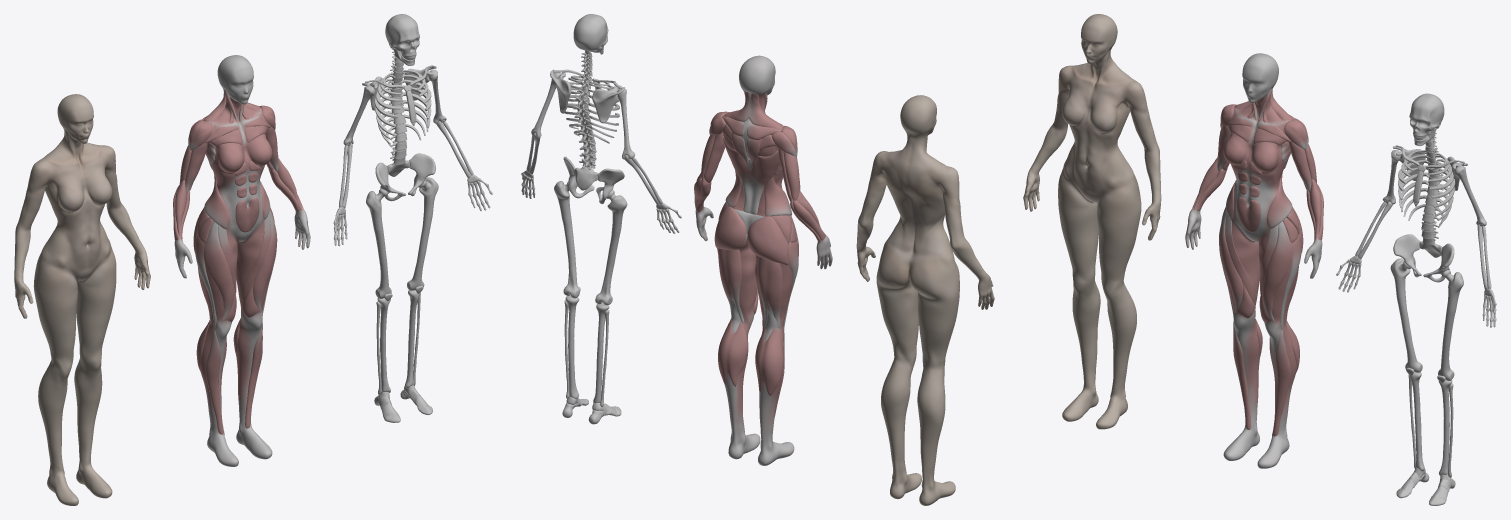
File: female body.glb
3 views of the same model, side by side, from view 1: azimuth 30°, elevation 25°; view 2: azimuth 150°, elevation 25°; view 3: azimuth 330°, elevation 25° (orthographic).
Parts seen in each view (by area): view 1: Merged_Extract9.002; view 2: Merged_Extract9.002; view 3: Merged_Extract9.002.
Boxes of the visible parts, box(x1,y1,x2,y2) form: Merged_Extract9.002: box(14, 14, 492, 505); Merged_Extract9.002: box(521, 14, 994, 505); Merged_Extract9.002: box(1023, 14, 1496, 505).
Size of the model in its own units: 0.61 by 0.4916 by 0.0703.
